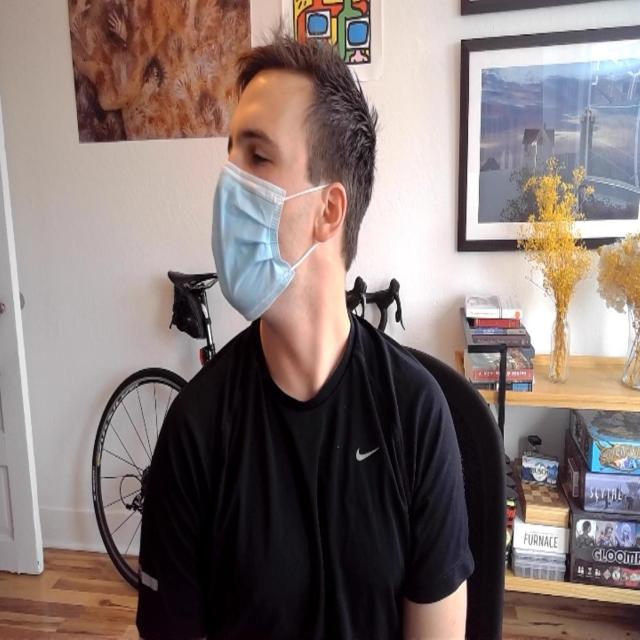Mask: (211, 72, 332, 323)
